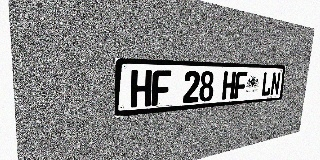2: (183, 71, 200, 103)
8: (199, 71, 215, 102)
F: (151, 70, 171, 106), (234, 71, 247, 99)
H: (130, 70, 152, 108), (222, 71, 236, 100)
L: (261, 72, 272, 97)
N: (270, 72, 281, 96)
